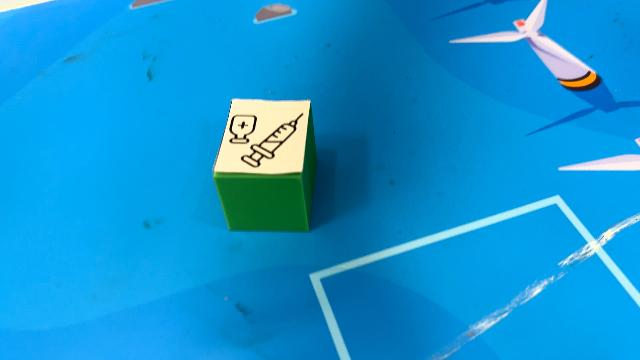syringe: (212, 98, 318, 232)
